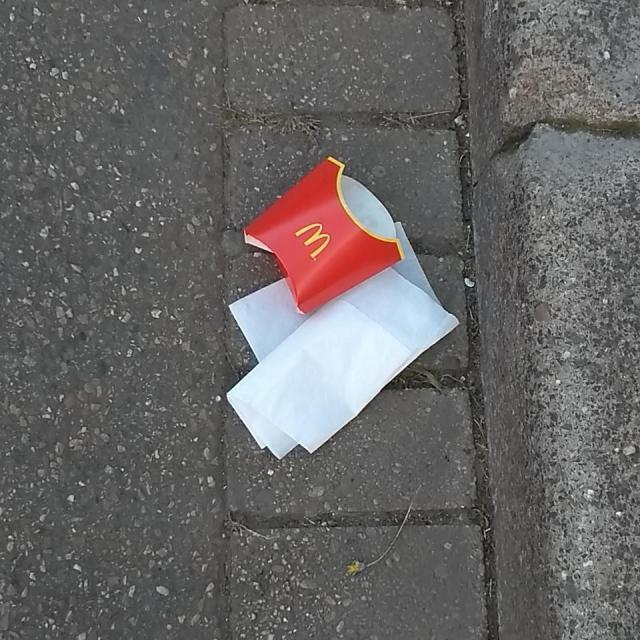Paper: (224, 218, 462, 462), (242, 153, 405, 318)
